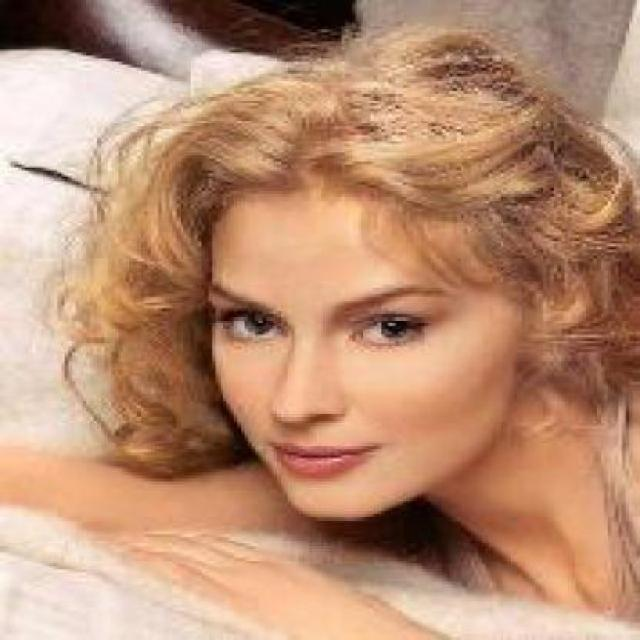closed-mouth: (266, 438, 392, 484)
